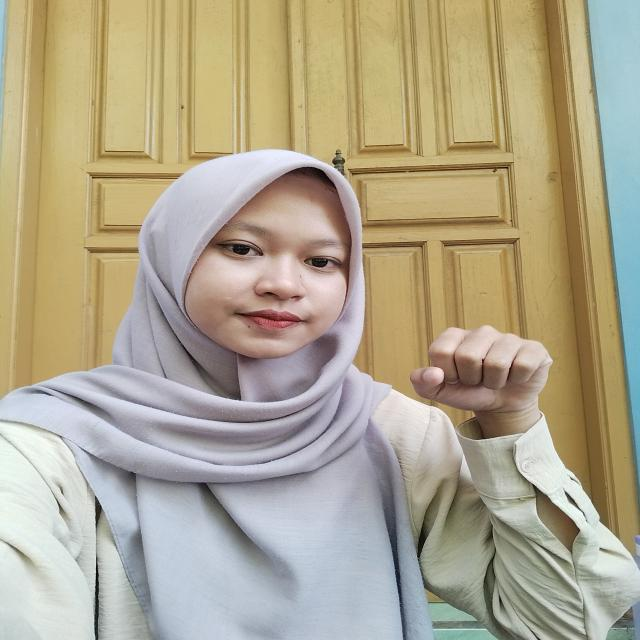baik: (390, 308, 556, 456)
